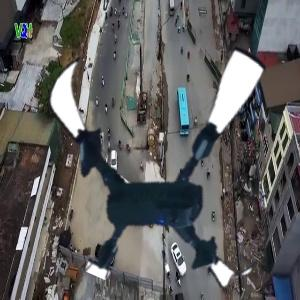drone: (29, 24, 299, 294)
